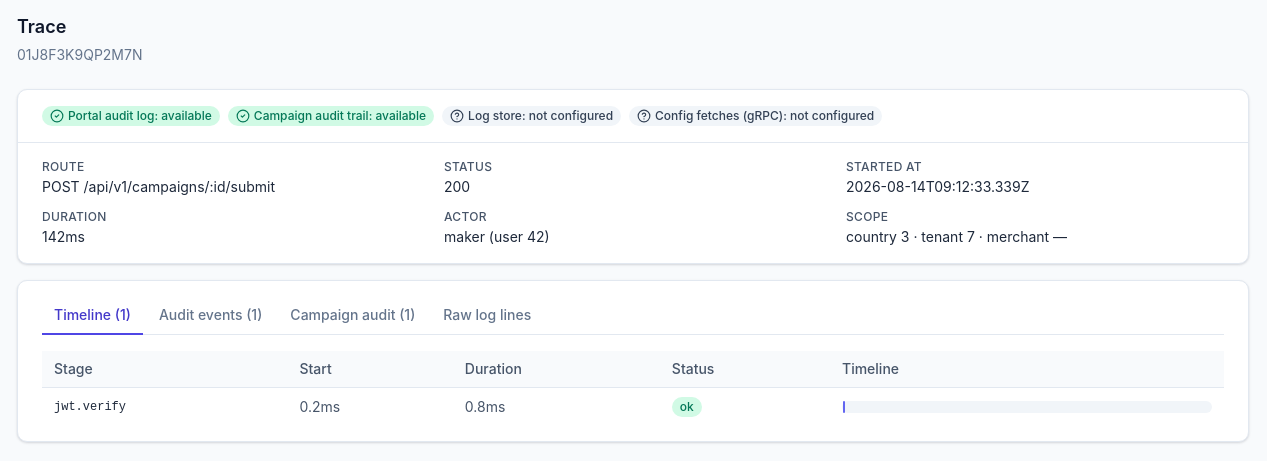
Test case: the domain-audit tab, populated › renders a row with a working campaign link and an approval-request link
Expected: the heading "Trace" is shown, [17, 16, 66, 37]
Click the tab "Campaign audit (1)" at x=353, y=316, box [278, 297, 427, 335]
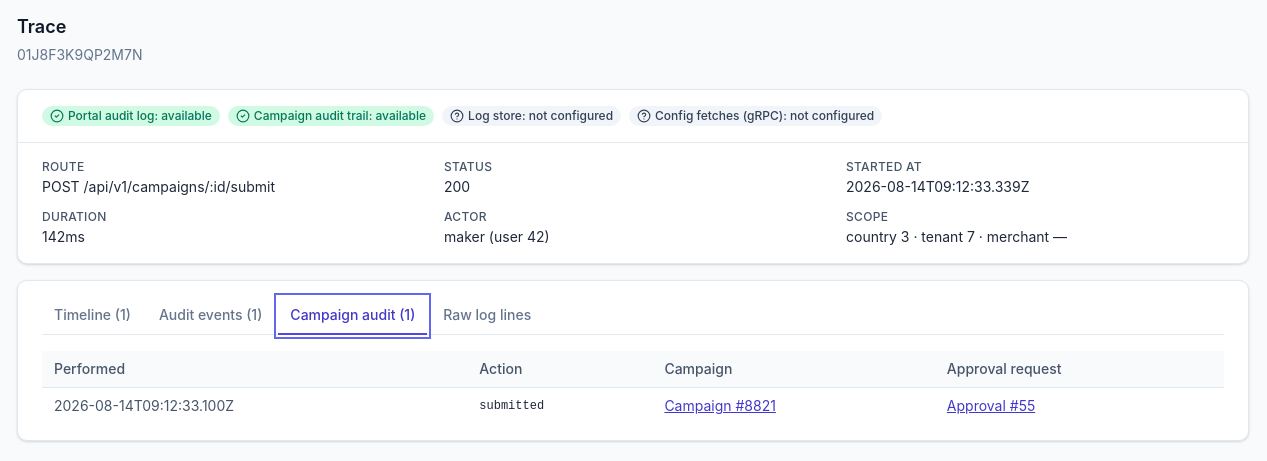
Expected: the text "submitted" is shown, [467, 388, 652, 424]
